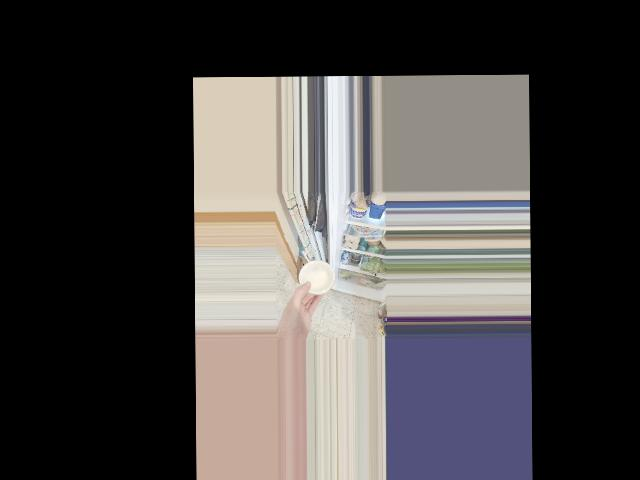cotage: (301, 258, 334, 296)
